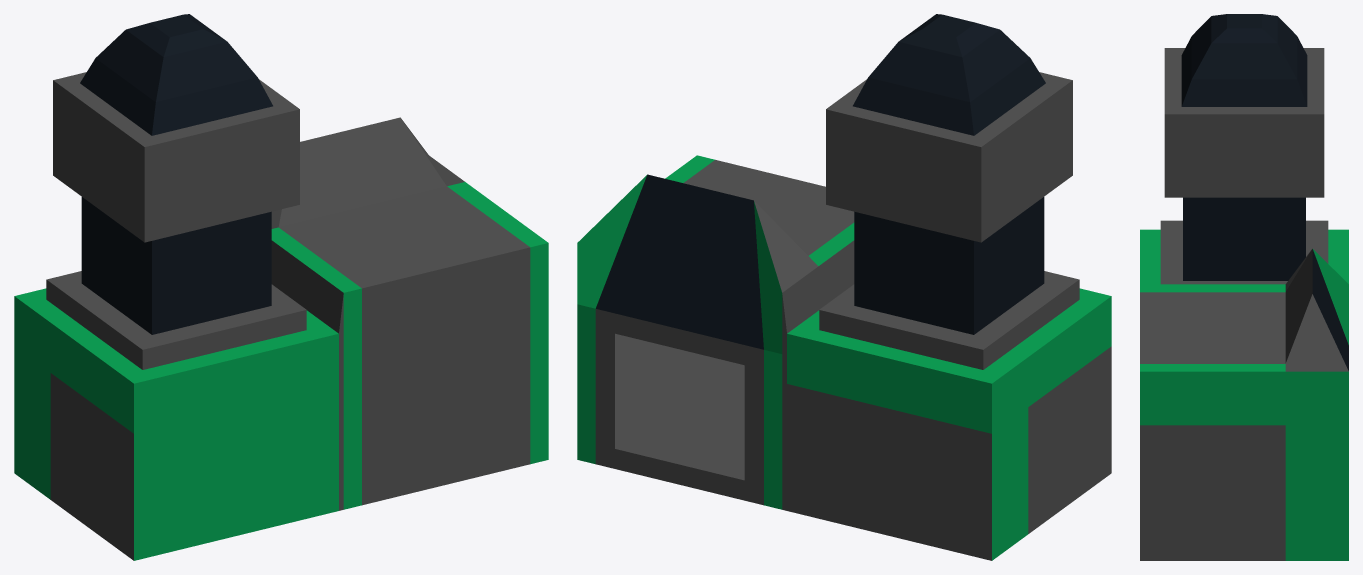
Rendered from oxigen_generator.glb.
3 renders of one model, left to right at view 1: azimuth 30°, elevation 25°; view 2: azimuth 150°, elevation 25°; view 3: azimuth 270°, elevation 25°, orthographic. The views are drawn at different scales.
Visible parts, largest first — view 1: Cube; view 2: Cube; view 3: Cube.
Part boxes in pixels (box(x1,y1,x2,y2)): Cube: box(14, 14, 548, 560); Cube: box(577, 14, 1111, 560); Cube: box(1140, 14, 1348, 560).
Size of the model in its own units: 2 by 2.15 by 1.
